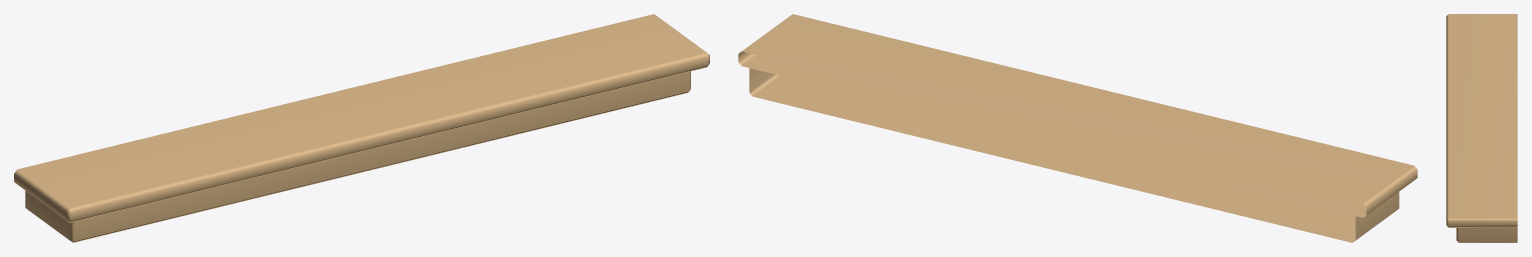
The model's file is DBK_WinDouble_Trim_E_Tile.fbx.
3 views of the same model, side by side, from view 1: azimuth 30°, elevation 25°; view 2: azimuth 150°, elevation 25°; view 3: azimuth 270°, elevation 25° (orthographic). The views are drawn at different scales.
Visible parts, largest first — view 1: DBK_WinDouble_Trim_E_Tile; view 2: DBK_WinDouble_Trim_E_Tile; view 3: DBK_WinDouble_Trim_E_Tile.
Boxes of the visible parts, box(x1,y1,x2,y2) form: DBK_WinDouble_Trim_E_Tile: box(14, 14, 709, 242); DBK_WinDouble_Trim_E_Tile: box(738, 14, 1417, 242); DBK_WinDouble_Trim_E_Tile: box(1446, 14, 1517, 242).
Bounding box in the file's own units: 182 × 11.76 × 26.56.
